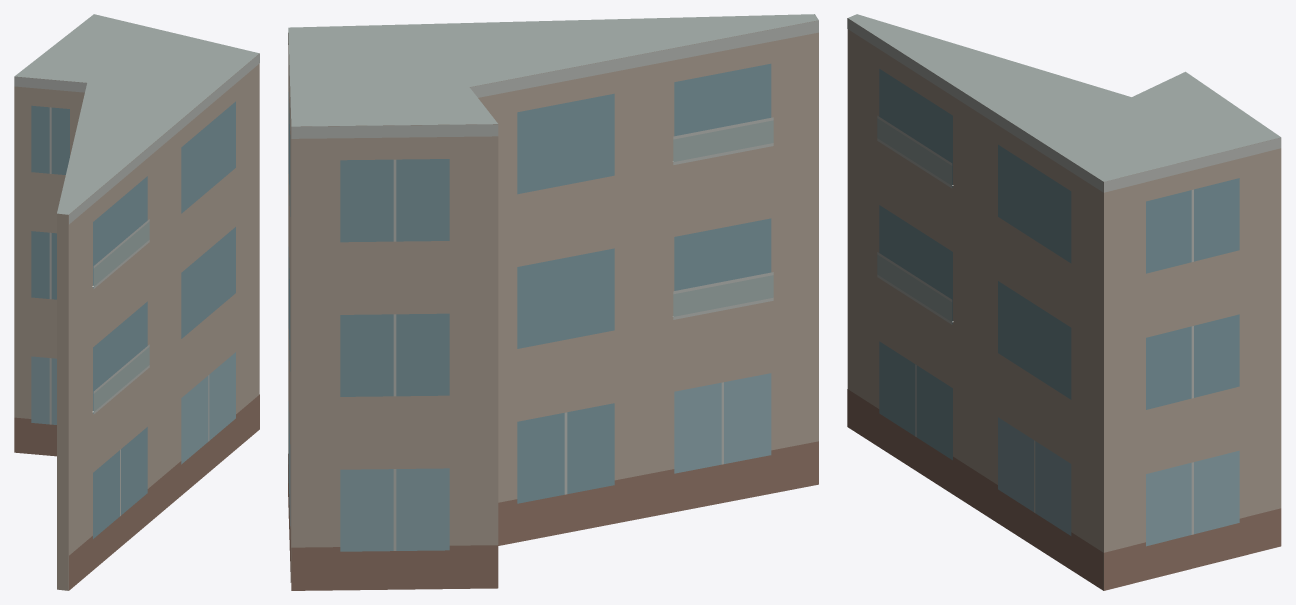
Rendered from survey-upis-32914563.glb.
3 renders of one model, left to right at view 1: azimuth 30°, elevation 25°; view 2: azimuth 150°, elevation 25°; view 3: azimuth 270°, elevation 25°, orthographic. The views are drawn at different scales.
Visible parts, largest first — view 1: survey-upis-32914563.tmp; view 2: survey-upis-32914563.tmp; view 3: survey-upis-32914563.tmp.
Boxes of the visible parts, x1,y1,x2,y2 form: survey-upis-32914563.tmp: [14, 14, 259, 590]; survey-upis-32914563.tmp: [288, 14, 818, 590]; survey-upis-32914563.tmp: [847, 14, 1281, 590].
Bounding box in the file's own units: 8.06 × 9.15 × 8.8.
